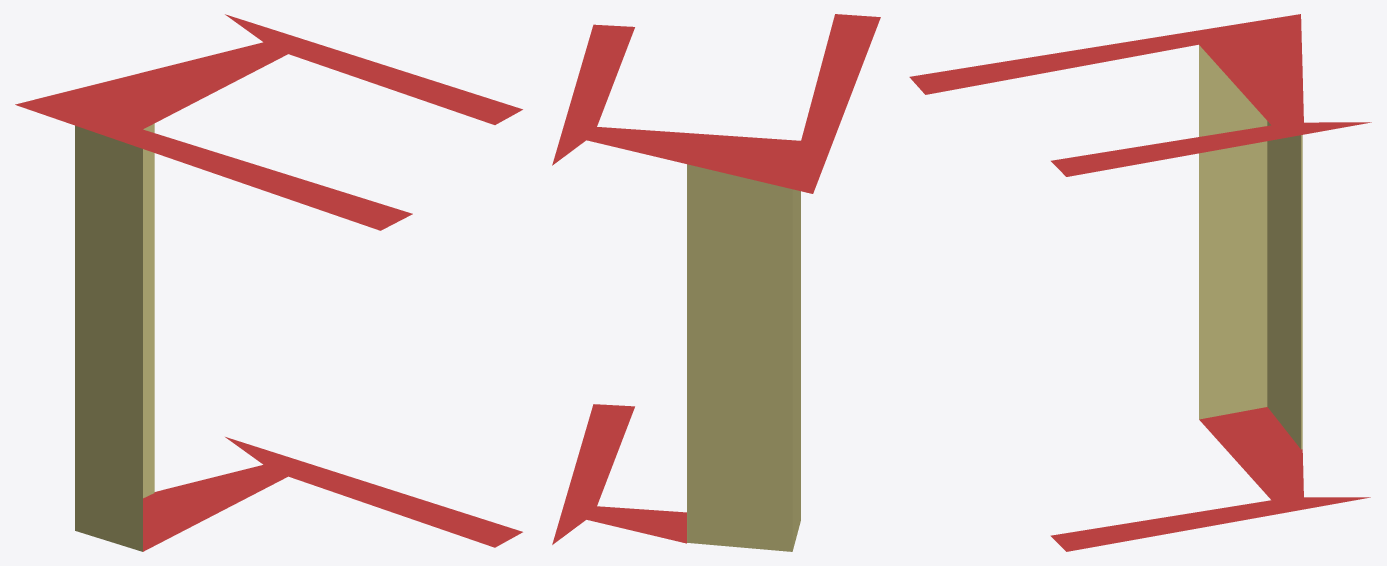
The picture shows the model from 3 angles, left to right: view 1: azimuth 30°, elevation 25°; view 2: azimuth 150°, elevation 25°; view 3: azimuth 270°, elevation 25°; orthographic projection. The views are drawn at different scales.
Bounding box in the file's own units: 7.29 × 8.76 × 7.82.
